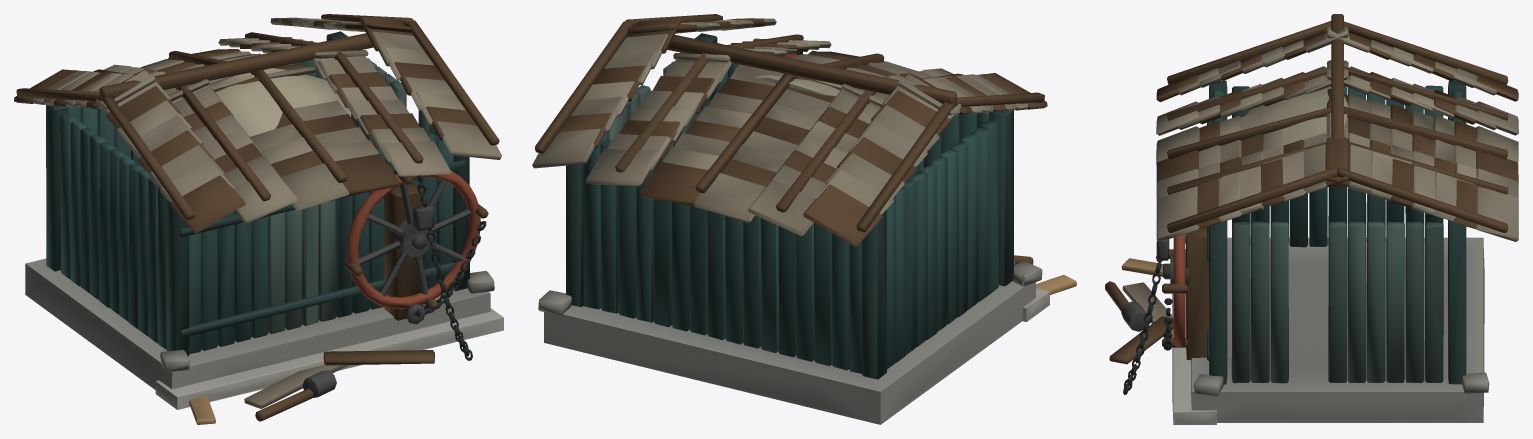
Rendered from gate_wheelhouse_b_lod1.glb.
3 views of the same model, side by side, from view 1: azimuth 30°, elevation 25°; view 2: azimuth 150°, elevation 25°; view 3: azimuth 270°, elevation 25° (orthographic). The views are drawn at different scales.
Parts seen in each view (by area): view 1: Surface.001; view 2: Surface.001; view 3: Surface.001.
Boxes of the visible parts, box(x1,y1,x2,y2) form: Surface.001: box(14, 14, 503, 424); Surface.001: box(532, 14, 1076, 424); Surface.001: box(1105, 14, 1518, 424).
Bounding box in the file's own units: 7.54 × 5.68 × 8.1.
